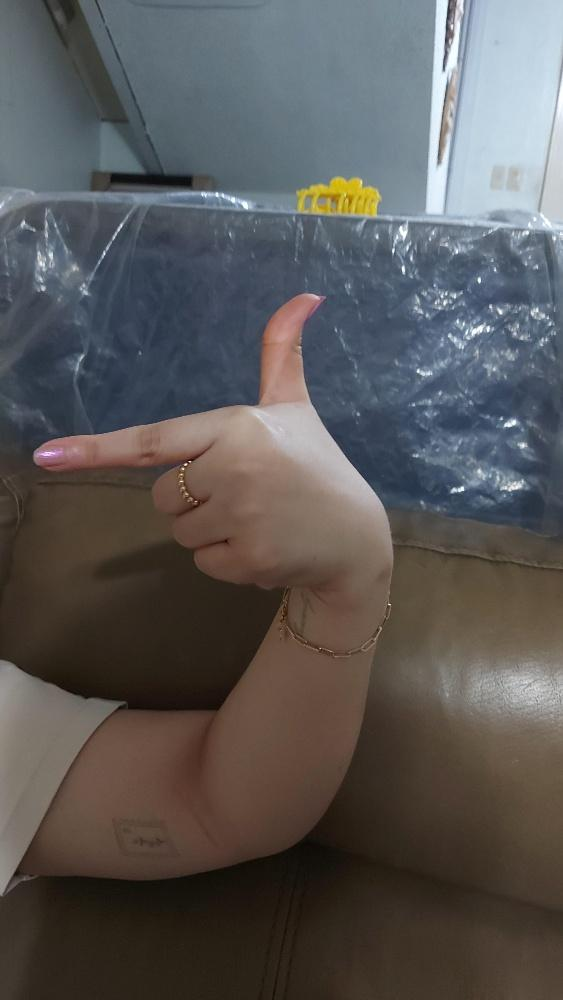g: (32, 291, 385, 591)
